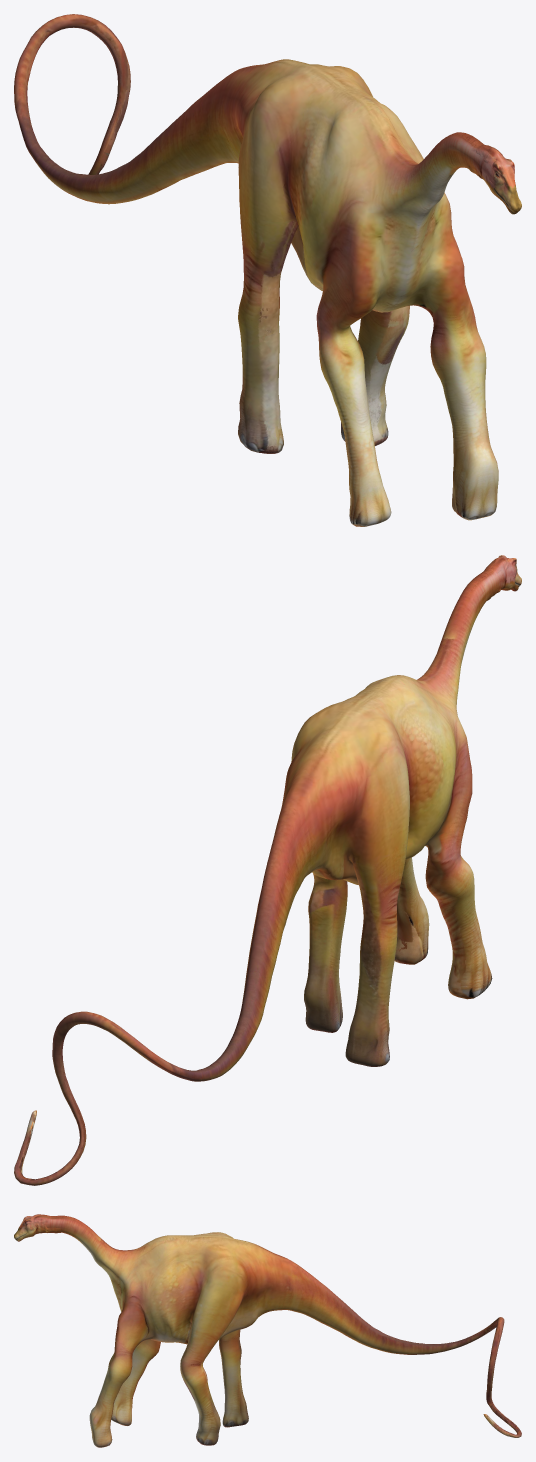
File: 08 Diplodicidae 3D.glb
The picture shows the model from 3 angles, top to bottom: view 1: azimuth 30°, elevation 25°; view 2: azimuth 150°, elevation 25°; view 3: azimuth 270°, elevation 25°; orthographic projection. The views are drawn at different scales.
Visible parts, largest first — view 1: Mesh_0; view 2: Mesh_0; view 3: Mesh_0.
Boxes of the visible parts, left/top/right/bottom form: Mesh_0: left=14, top=14, right=521, bottom=526; Mesh_0: left=14, top=555, right=521, bottom=1185; Mesh_0: left=14, top=1214, right=521, bottom=1447.
Size of the model in its own units: 3.48 by 8.43 by 17.49.
1 material, 1 textured.
